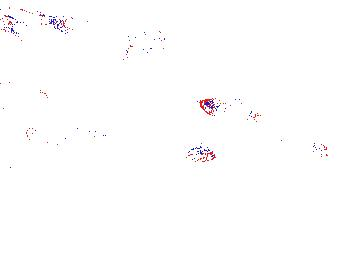red belly glassfish: (180, 141, 216, 163), (308, 134, 330, 160)
redtail glassfish: (23, 123, 119, 150), (1, 4, 72, 37), (199, 96, 261, 129), (119, 29, 168, 62), (107, 72, 168, 97)
